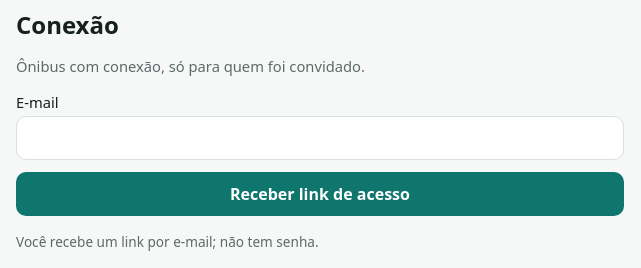
Buscar › sem sessão: tela de login com magic link
The image size is (641, 268).
Type "carol@example.com" into the field labelled "E-mail" at (320, 138), box x1=16 y1=116 x2=624 y2=160
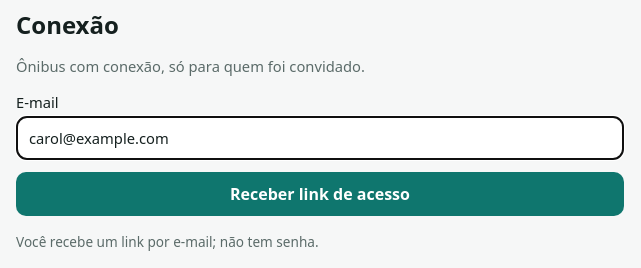
Click the button "Receber link de acesso" at (320, 194), box x1=16 y1=172 x2=624 y2=216
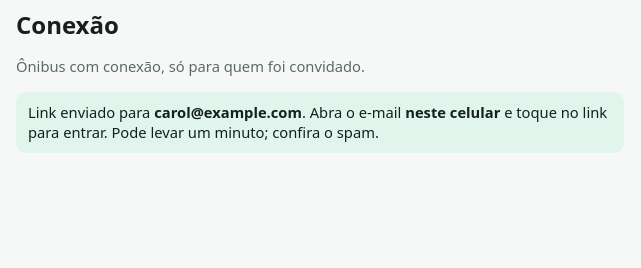
Check: the text "Link enviado para" is shown, box x1=28 y1=102 x2=154 y2=122
